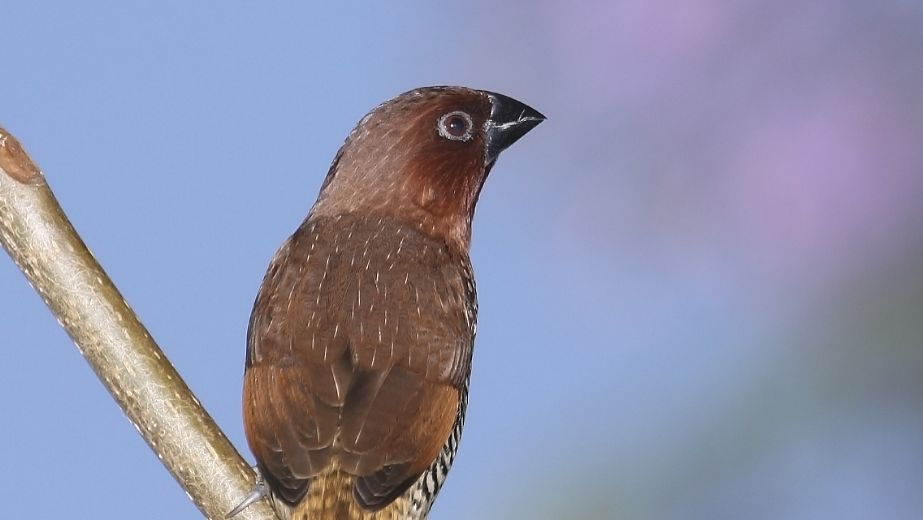bird: (219, 71, 552, 520)
